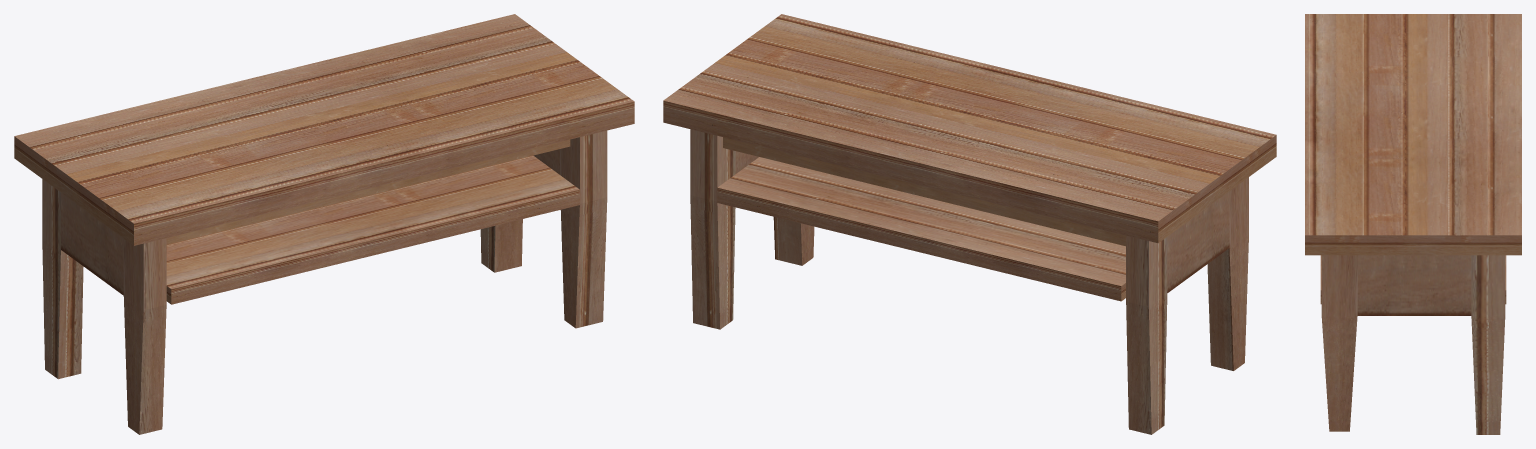
The model's file is Prop_table4.FBX.
3 renders of one model, left to right at view 1: azimuth 30°, elevation 25°; view 2: azimuth 150°, elevation 25°; view 3: azimuth 270°, elevation 25°, orthographic. The views are drawn at different scales.
Visible parts, largest first — view 1: table005; view 2: table005; view 3: table005.
Part boxes in pixels (box(x1,y1,x2,y2)): table005: box(14, 14, 634, 434); table005: box(663, 14, 1276, 434); table005: box(1305, 14, 1521, 434).
Bounding box in the file's own units: 56.06 × 23.21 × 24.53.
1 material, 1 textured.
